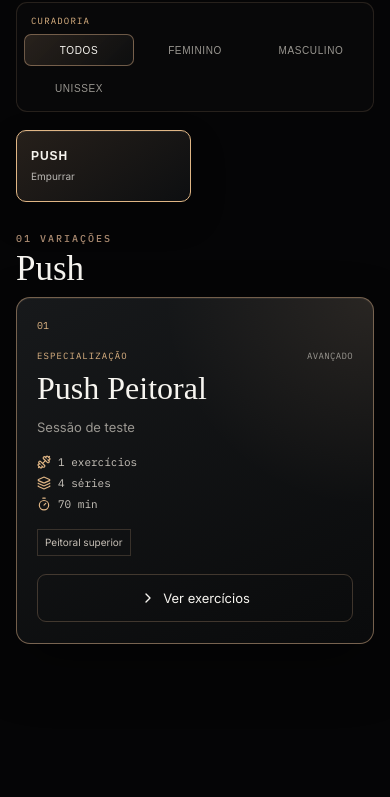
Test case: WorkoutLibrary mobile apply interaction › tap em Usar como treino atual chama a aplicação da sessão
Later steps or results of the test are not shown.
(page scrolled)
Click the button with class "library-add" at (195, 598), box [37, 574, 353, 622]
(page scrolled)
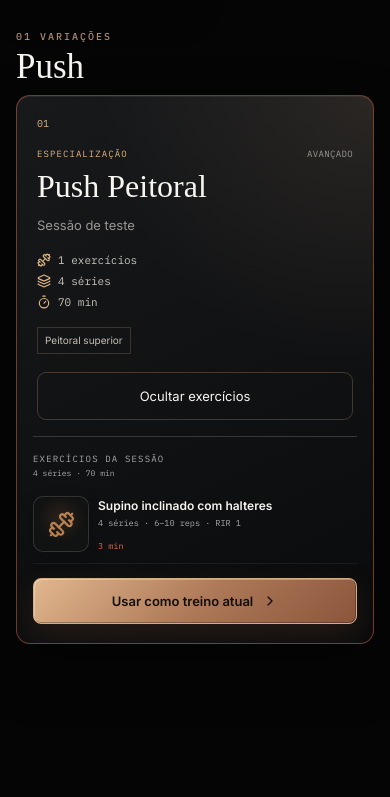
Check: the button with class "library-mobile-apply" is enabled, box [33, 578, 357, 624]
